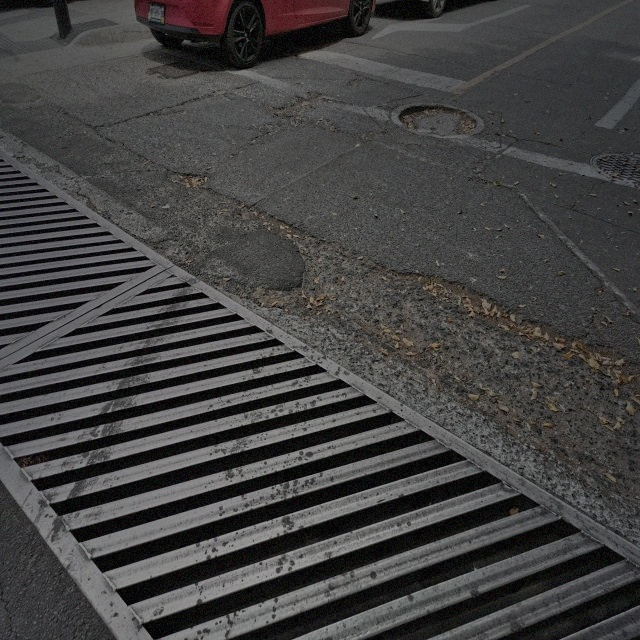pothole: (395, 259, 506, 333), (253, 204, 302, 244), (274, 92, 319, 132), (396, 96, 454, 124), (253, 278, 302, 310), (179, 171, 210, 191), (348, 78, 358, 88)
